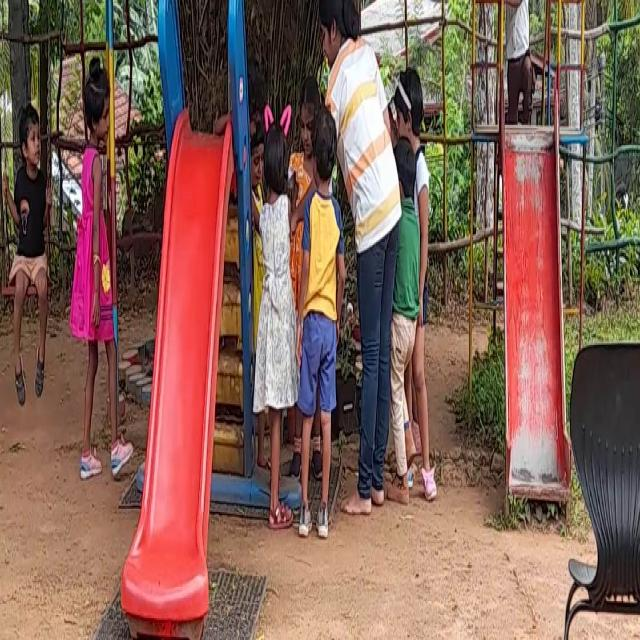adult: (332, 0, 404, 521)
child: (74, 22, 121, 499), (251, 105, 301, 530), (1, 74, 57, 426), (298, 116, 338, 538), (394, 81, 434, 482), (501, 0, 550, 116)
